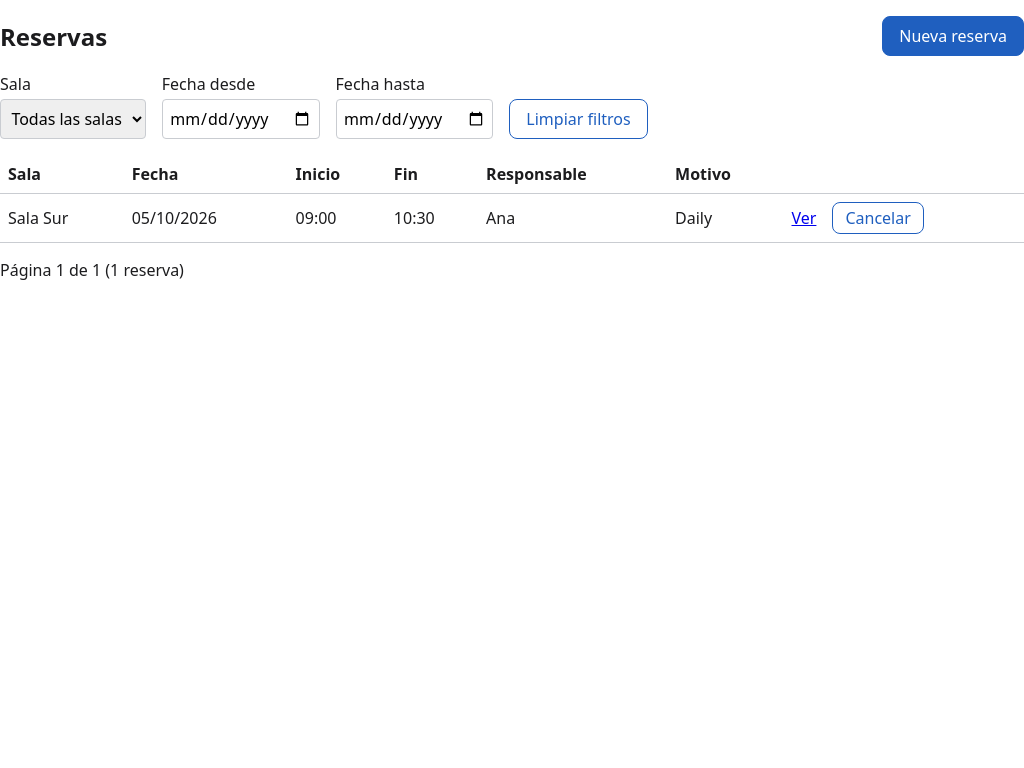
it: ReservaListComponent › ver y cancelar › otro error (409): muestra el detalle, mantiene la fila y no recarga
Click the button "Cancelar": (878, 218) 832,202 -> 924,234
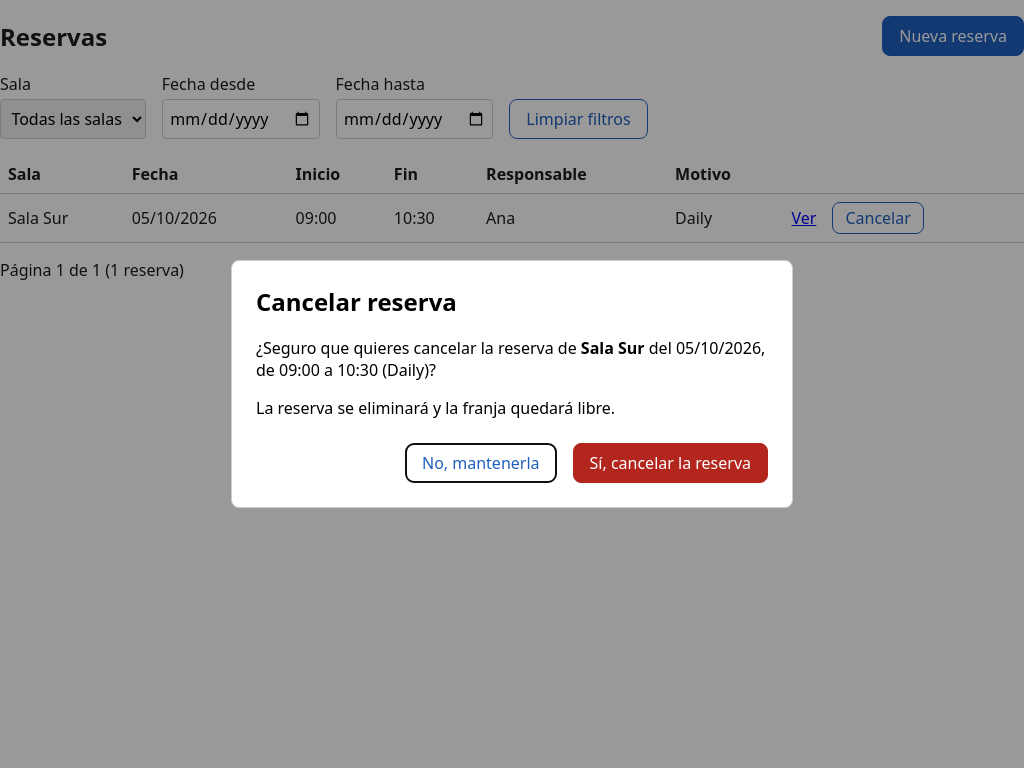
Click the button "Sí, cancelar la reserva": (670, 464) 572,444 -> 768,484
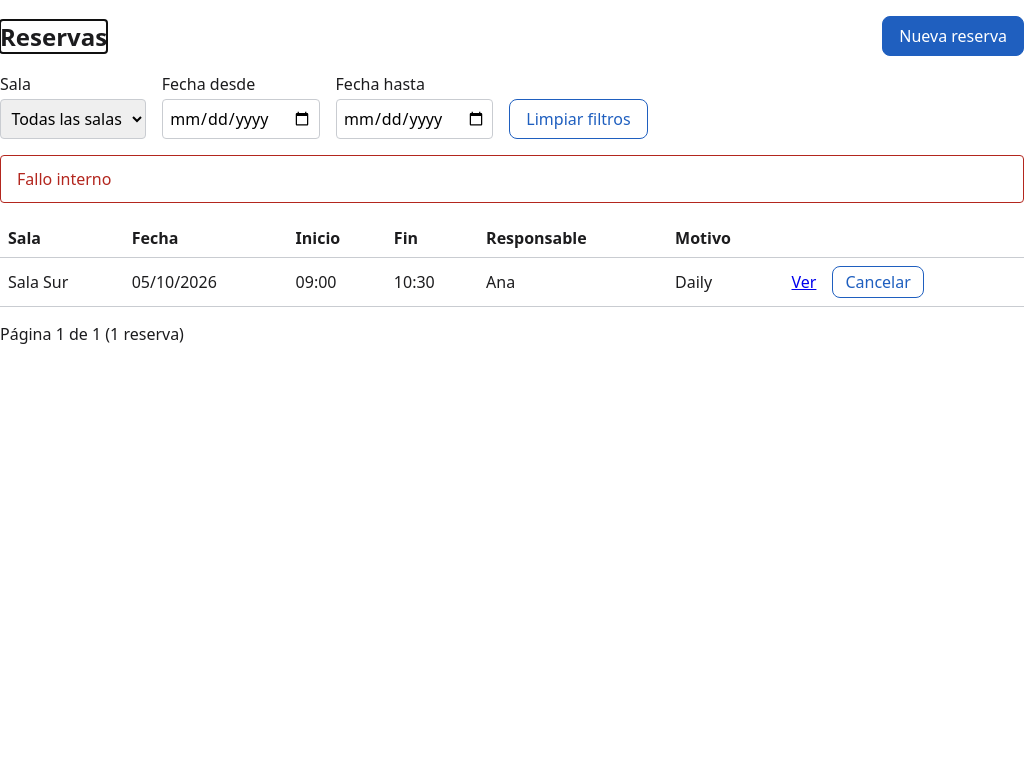
Expected: the message with class "error-general" reads "Fallo interno", 17,168 -> 111,190
